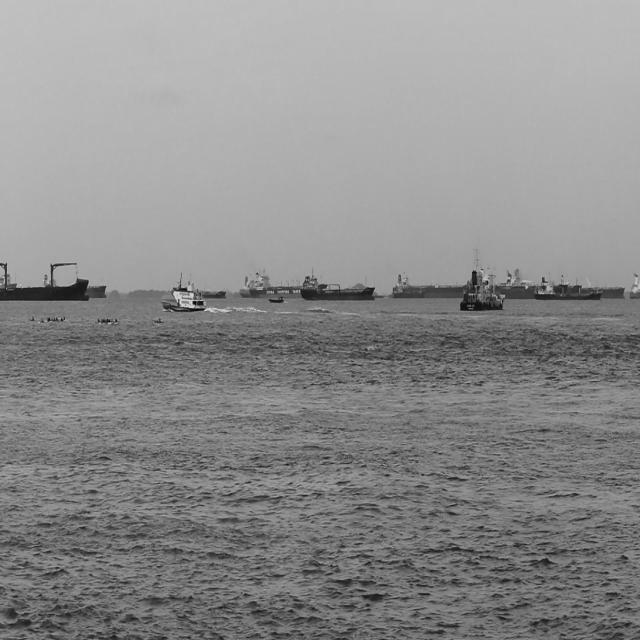kayak: (41, 310, 73, 326), (97, 315, 123, 325), (269, 293, 288, 305), (152, 314, 167, 327), (29, 314, 41, 325)
ship: (384, 263, 530, 297), (0, 258, 92, 300), (521, 262, 628, 296), (459, 244, 507, 312), (301, 266, 377, 301), (242, 260, 304, 298), (534, 271, 603, 299), (161, 281, 213, 315), (42, 271, 106, 296), (182, 269, 230, 299), (0, 268, 22, 289)
